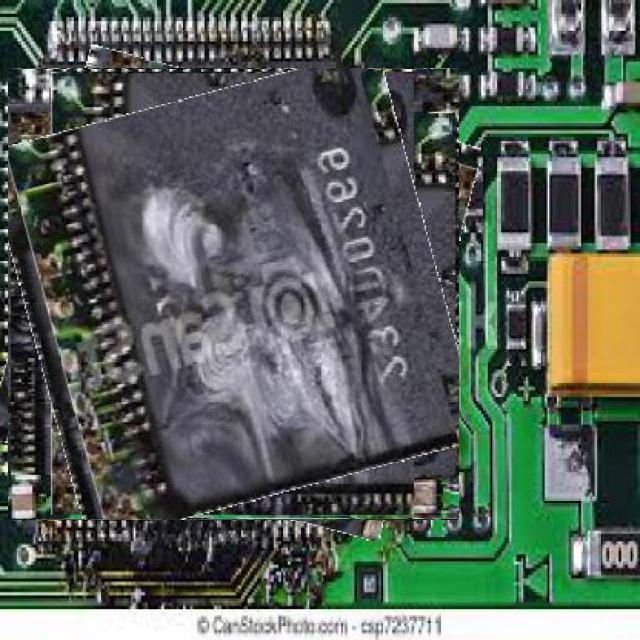damged: (7, 69, 459, 519)
